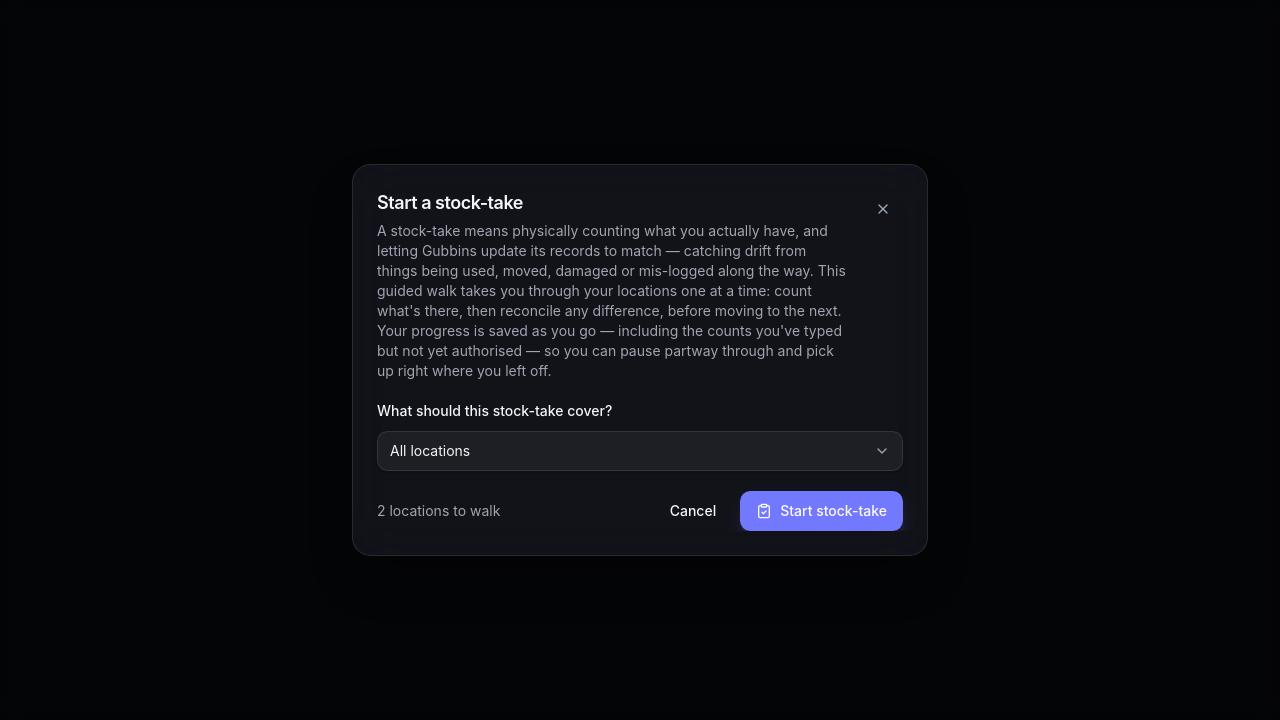
Scenario: AuditDayDialog — scope picker › "choose specific locations" narrows the scope to the ticked locations
The width and height of the screenshot is (1280, 720).
# Switch the mode Select to "selected" by clicking it open and choosing the option.
Click the dropdown with test id "audit-scope-mode": coordinates (640, 451) [377,431,903,471]
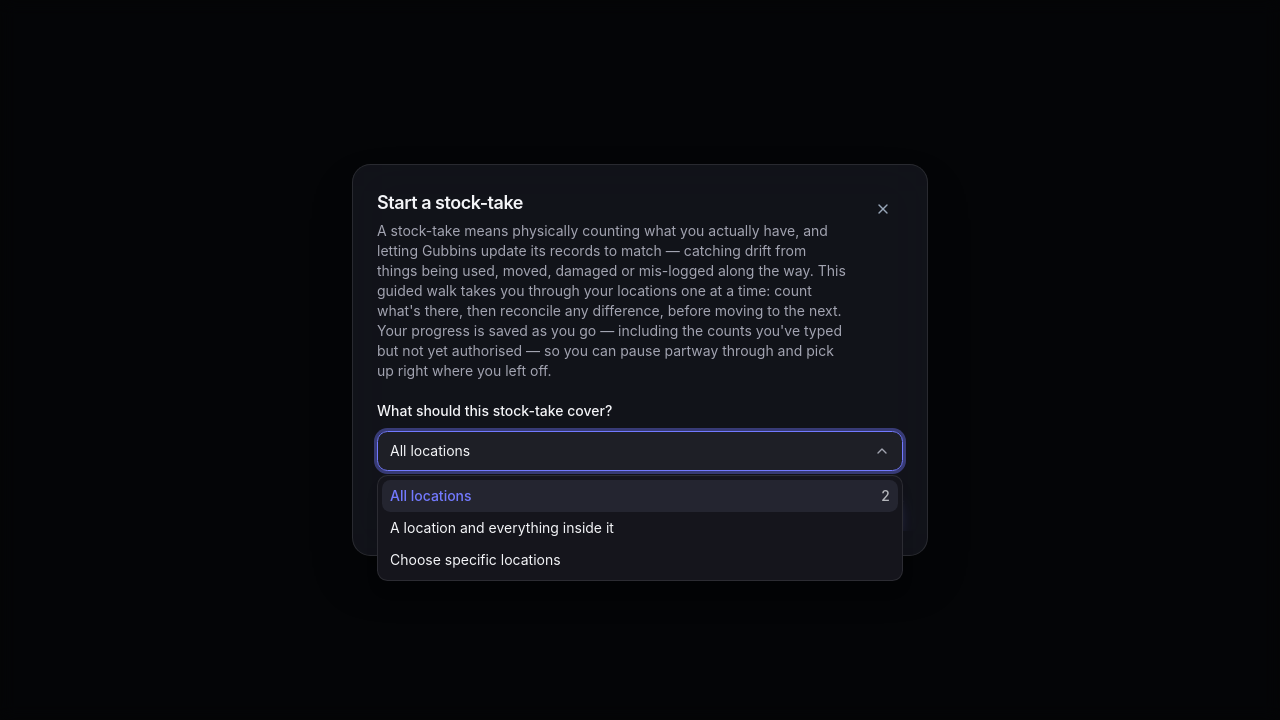
Click the option "Choose specific locations": coordinates (475, 560) [390,551,561,568]
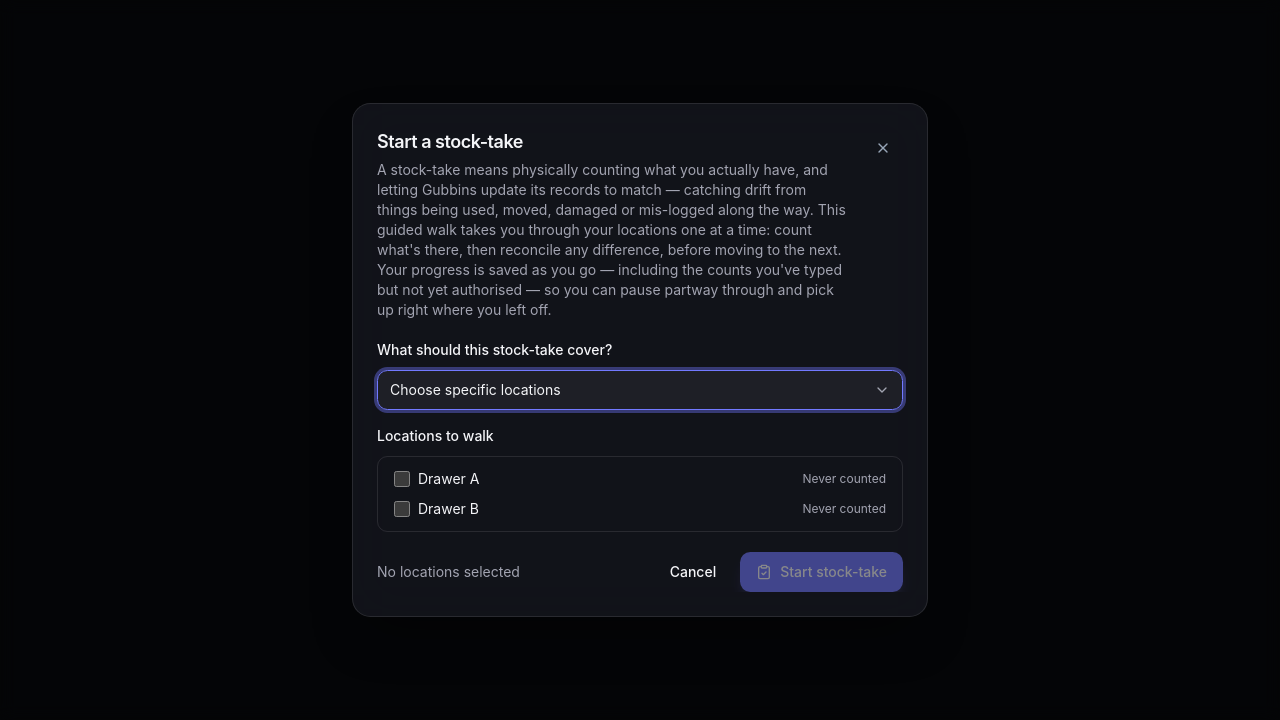
Result: the checkbox with test id "audit-pick-locB" is shown
# Tick only Drawer B.
Click the checkbox with test id "audit-pick-locB": coordinates (402, 509) [394,501,410,517]
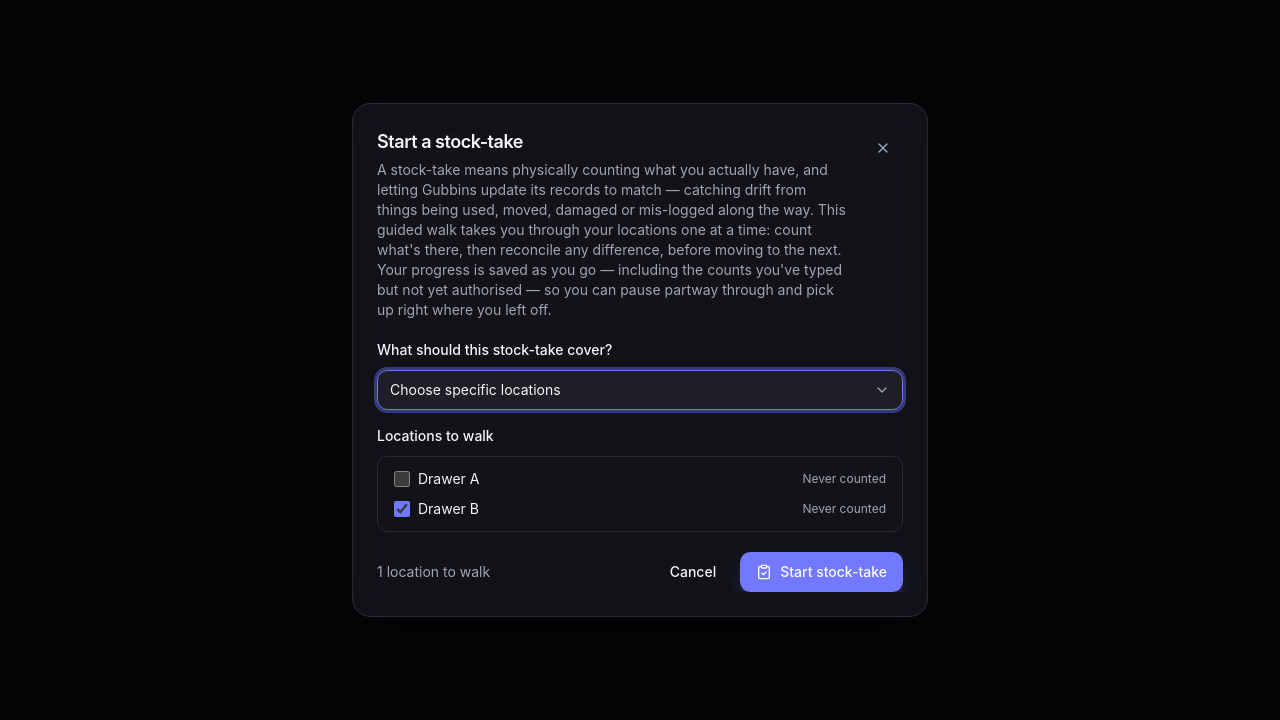
Result: the text with test id "audit-scope-count" reads "1 location to walk" at [377,563,490,580]
